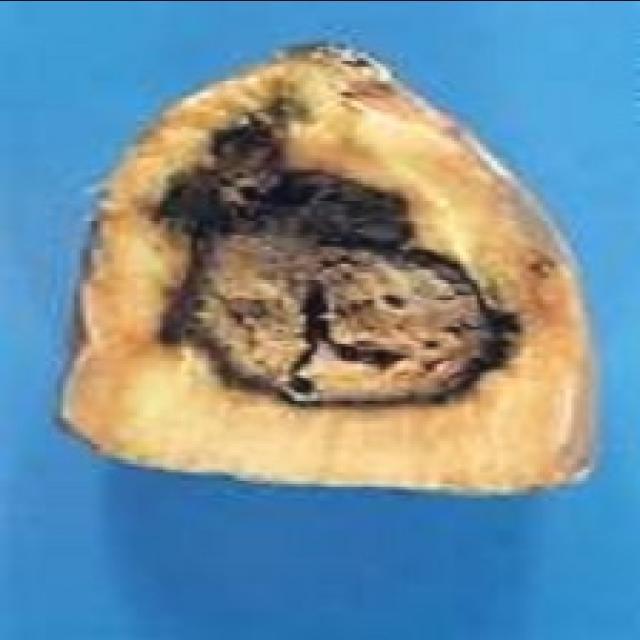blackleg: (46, 33, 615, 513)
